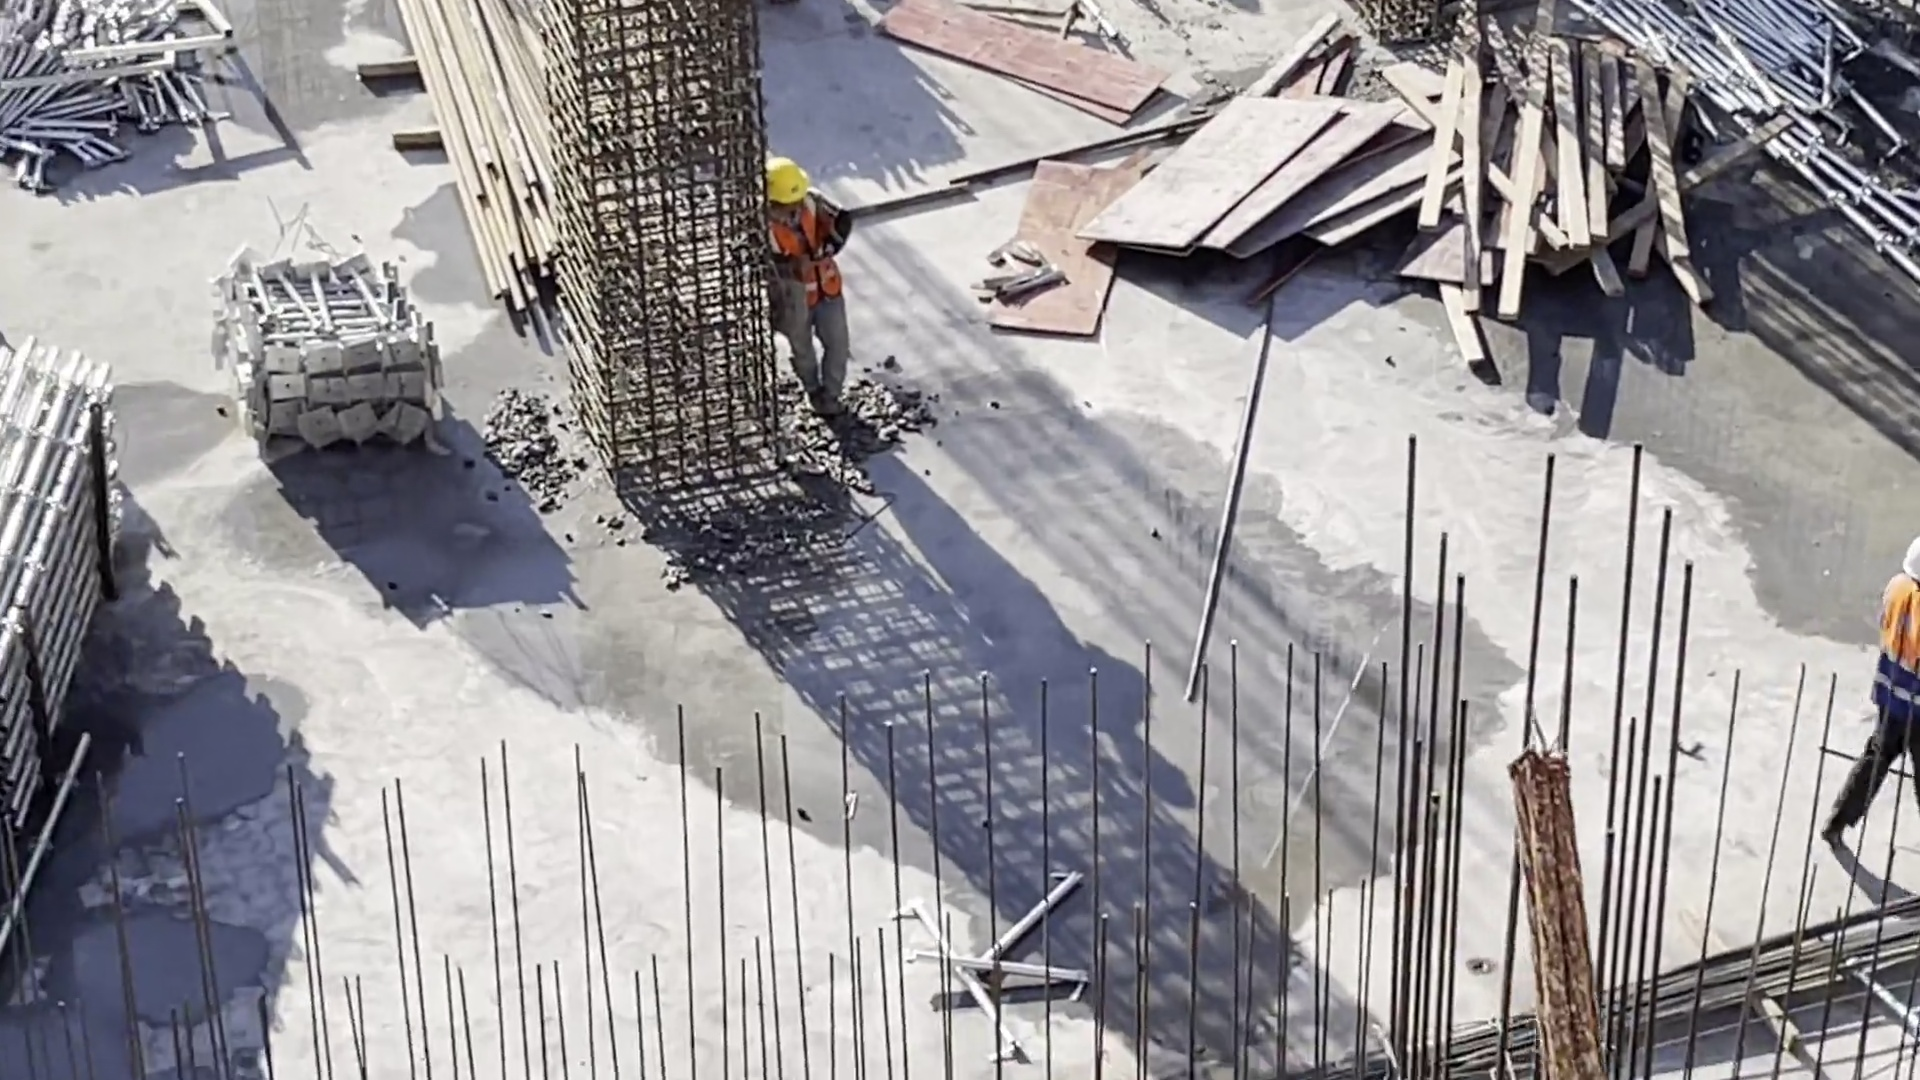board: (1094, 97, 1415, 274)
helmet: (766, 160, 818, 201), (1904, 542, 1920, 579)
person: (754, 167, 908, 439), (1833, 530, 1920, 863)
rebar: (1289, 885, 1915, 1080)
scaffold: (6, 300, 121, 941), (1, 8, 239, 187), (230, 260, 434, 451), (1718, 1, 1838, 99)
vest: (753, 199, 849, 305), (1876, 577, 1920, 708)
wood: (1433, 9, 1704, 376)
